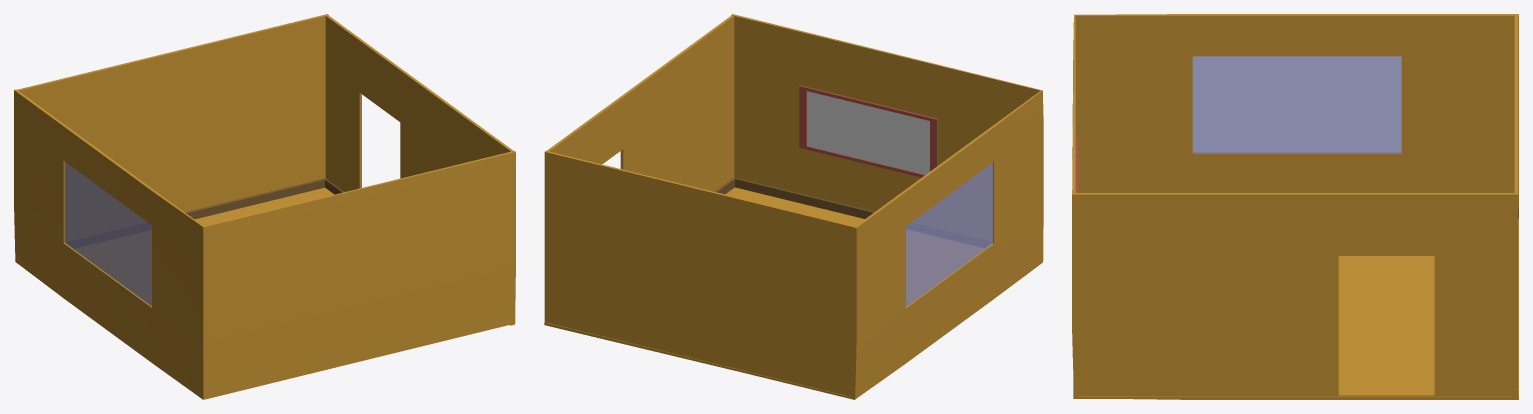
File: music roomcolor.fbx
3 renders of one model, left to right at view 1: azimuth 30°, elevation 25°; view 2: azimuth 150°, elevation 25°; view 3: azimuth 270°, elevation 25°, orthographic. The views are drawn at different scales.
Parts seen in each view (by area): view 1: polySurface92; view 2: polySurface92; view 3: polySurface92.
Boxes of the visible parts, x1,y1,x2,y2 form: polySurface92: (14, 14, 515, 399); polySurface92: (544, 14, 1043, 399); polySurface92: (1072, 14, 1518, 399).
Bounding box in the file's own units: 19.09 × 10.12 × 19.95.
